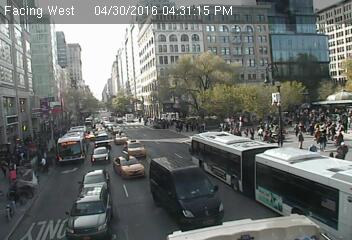pos: (297, 129, 311, 147)
